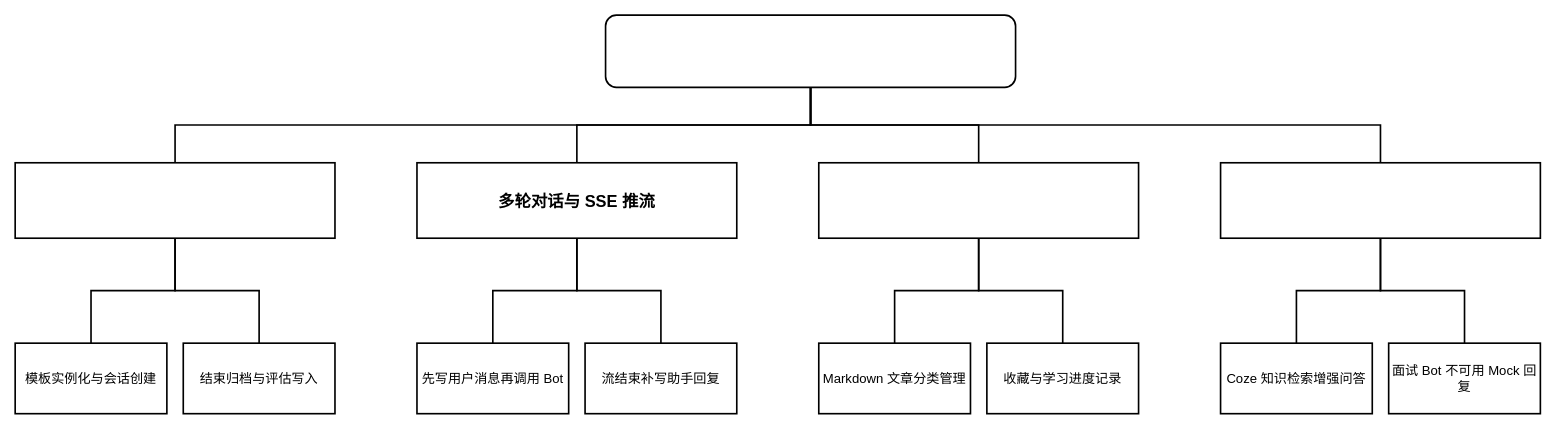
Some shapes in this 1555 by 428 pixel diagram are drawn without their labels. The centre of each missing label's shape, as x and y in pixels:
文章学习与进度跟踪: (978,200)
知识助手与降级策略: (1380,200)
面试会话生命周期: (174,200)
面试对话与知识学习模块: (810,51)
